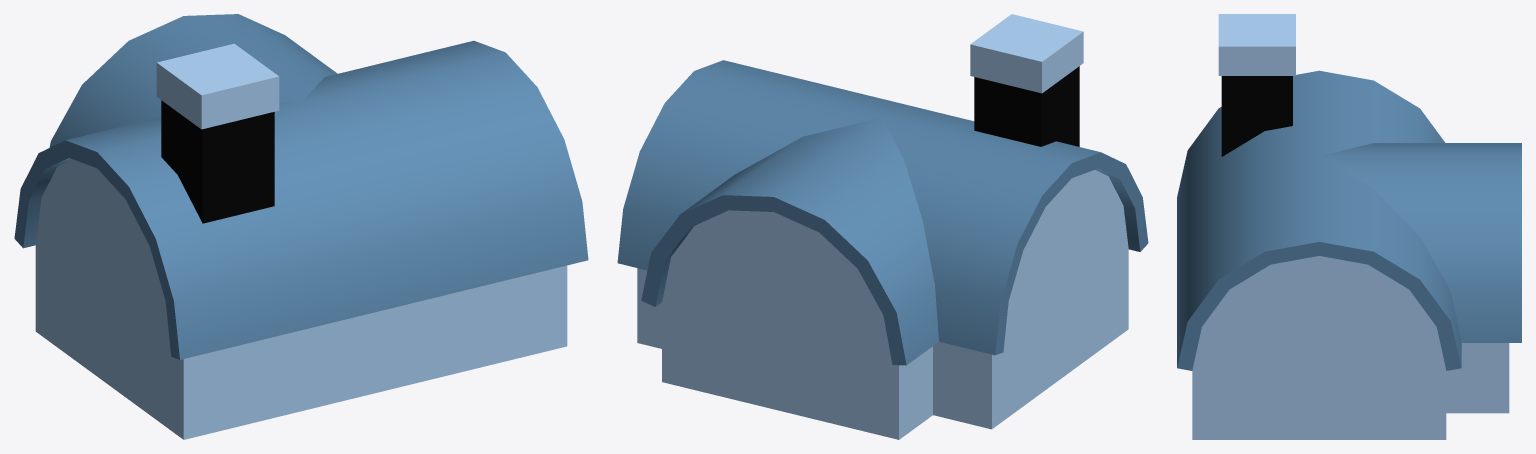
The model's file is Map-House-R-Lv2.001.fbx.
3 renders of one model, left to right at view 1: azimuth 30°, elevation 25°; view 2: azimuth 150°, elevation 25°; view 3: azimuth 270°, elevation 25°, orthographic. The views are drawn at different scales.
Visible parts, largest first — view 1: Map-House-R-Lv2.001; view 2: Map-House-R-Lv2.001; view 3: Map-House-R-Lv2.001.
Part boxes in pixels (x1,y1,x2,y2): Map-House-R-Lv2.001: (14,14,588,439); Map-House-R-Lv2.001: (617,14,1148,439); Map-House-R-Lv2.001: (1177,14,1521,439).
Size of the model in its own units: 1.91 by 1.45 by 1.63.
